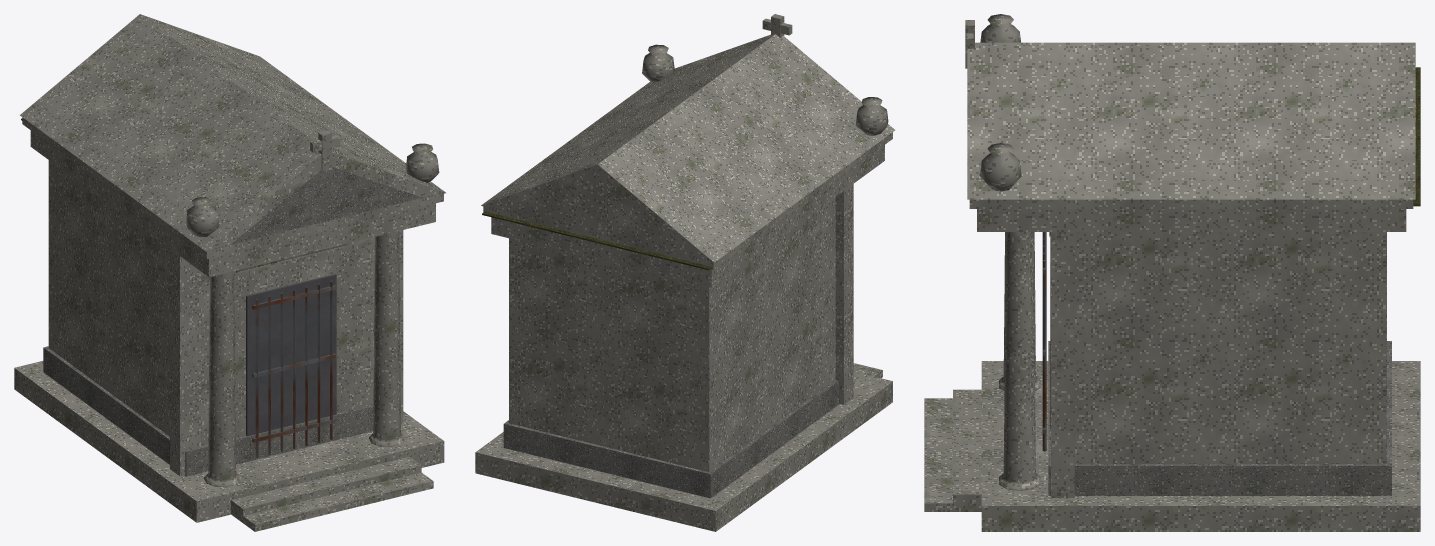
The model's file is mausoleum.glb.
The picture shows the model from 3 angles, left to right: view 1: azimuth 30°, elevation 25°; view 2: azimuth 150°, elevation 25°; view 3: azimuth 270°, elevation 25°; orthographic projection. The views are drawn at different scales.
Visible parts, largest first — view 1: detail, shell-col; view 2: shell-col, detail; view 3: detail, shell-col.
Part boxes in pixels (x1=…): detail: x1=20, y1=14, x2=445, y2=487; shell-col: x1=14, y1=160, x2=444, y2=531; shell-col: x1=475, y1=197, x2=892, y2=531; detail: x1=481, y1=14, x2=895, y2=498; detail: x1=965, y1=14, x2=1420, y2=497; shell-col: x1=924, y1=232, x2=1420, y2=531.
Size of what is drawn, in the model's own units: 3.64 by 5.05 by 5.2.
Materials: 6 (6 with a texture image).
